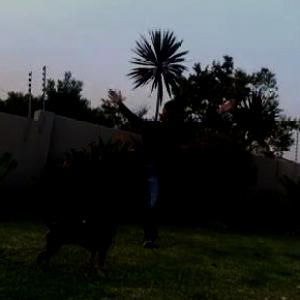takeoff: (109, 84, 241, 236)
